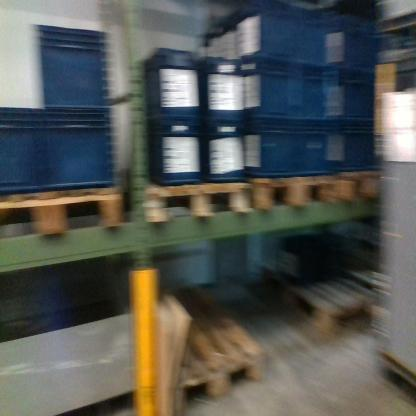pallet: (151, 271, 263, 405), (251, 249, 378, 337), (124, 159, 252, 221), (3, 182, 125, 246), (245, 173, 339, 219), (334, 159, 389, 202), (374, 13, 415, 51)
small_load_carrier: (39, 95, 117, 187), (39, 16, 111, 112), (146, 111, 208, 181), (151, 39, 205, 118), (321, 62, 377, 129), (238, 57, 291, 125), (3, 106, 45, 191), (235, 5, 291, 65), (202, 51, 247, 124), (321, 122, 373, 179), (241, 121, 292, 178), (328, 11, 376, 71), (290, 63, 328, 132), (201, 118, 242, 181), (291, 128, 333, 184), (292, 8, 328, 71), (198, 8, 235, 58)
